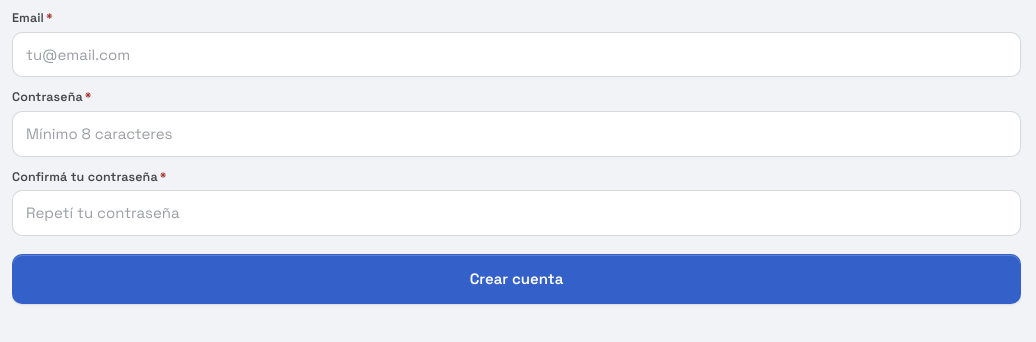
Test: RegisterForm › muestra error si la contraseña tiene menos de 8 caracteres
Type "test@example.com" into the field labelled "Email*" at (516, 54), box [12,32,1021,77]
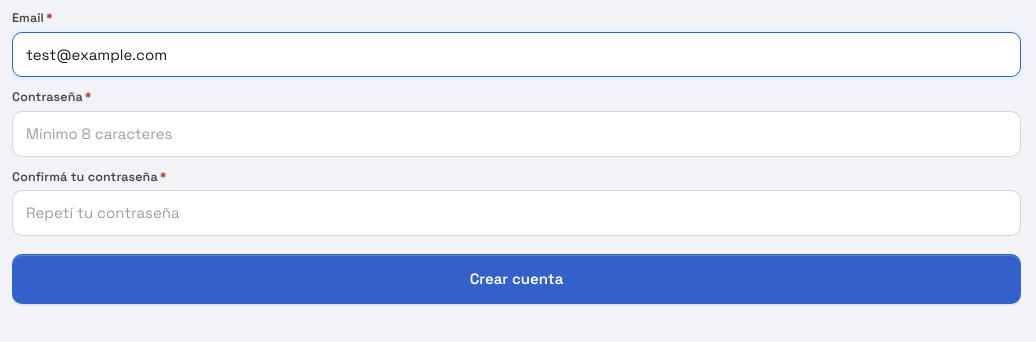
Type "corta" into the password field labelled "Contraseña*" at (516, 134), box [12,111,1021,157]
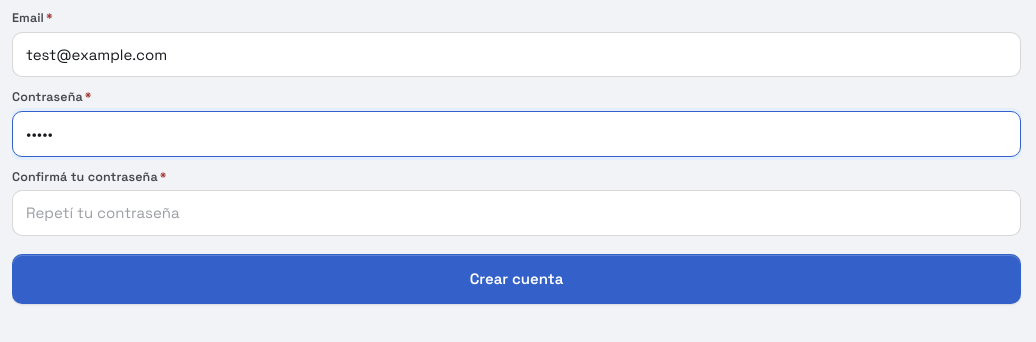
Type "corta" into the password field labelled "Confirmá tu contraseña*" at (516, 213), box [12,190,1021,236]
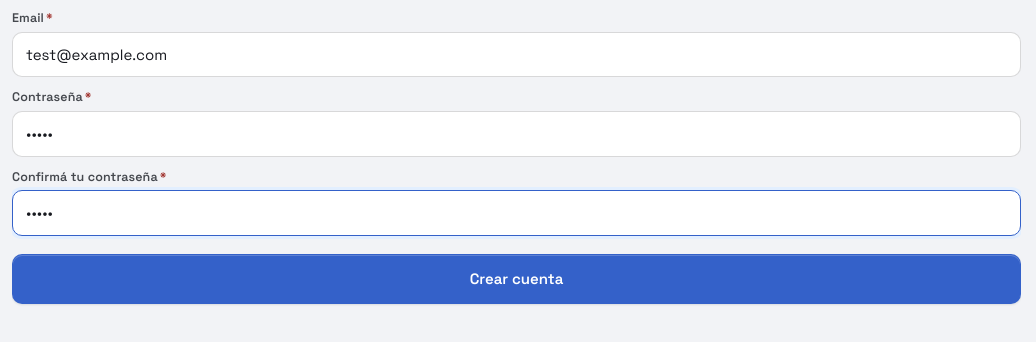
Click the button "Crear cuenta" at (516, 279), box [12,254,1021,304]
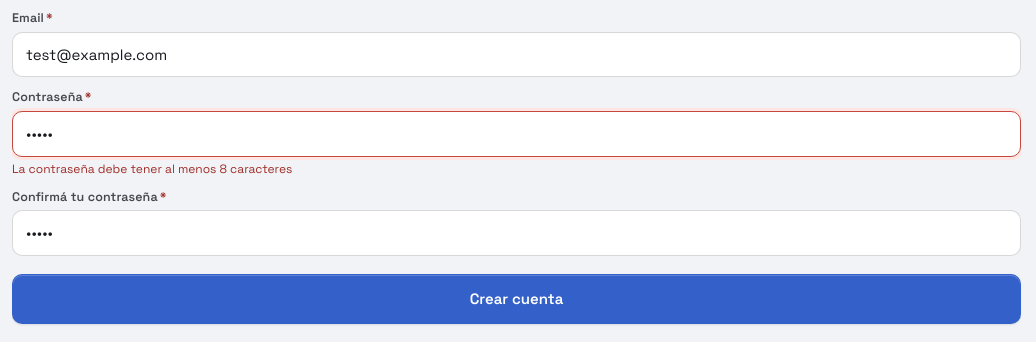
Result: the text "La contraseña debe tener al menos 8 caracteres" is shown at [12,160,292,176]
